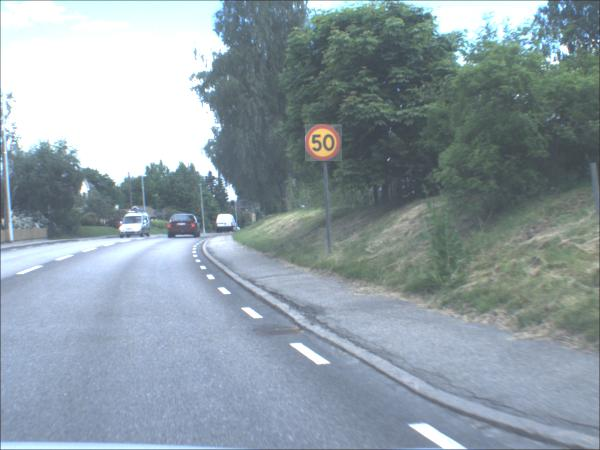50_SIGN: (307, 125, 345, 163)
